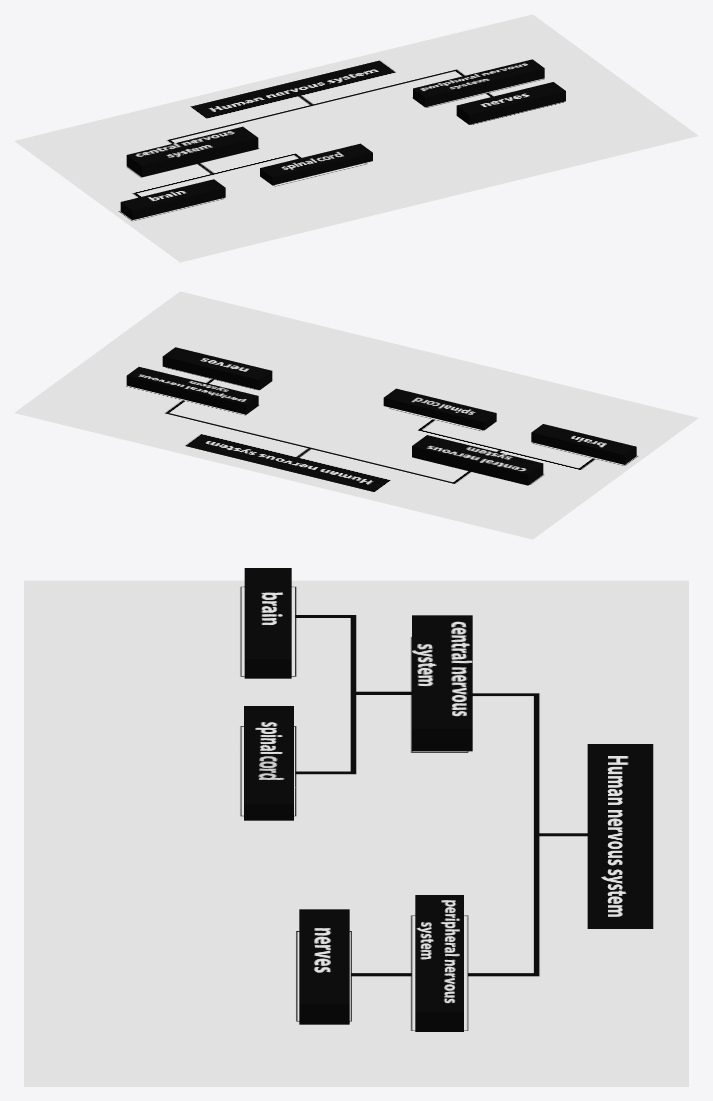
Rendered from human_nurves_system 1.fbx.
3 renders of one model, top to bottom at view 1: azimuth 30°, elevation 25°; view 2: azimuth 150°, elevation 25°; view 3: azimuth 270°, elevation 25°, orthographic. The views are drawn at different scales.
Parts seen in each view (by area): view 1: base, centeral_nurves_system1, peripheral_nervous_system, centeral_nurves_system_nurves, centeral_nurves_system, brain_spinal_cord; view 2: base, centeral_nurves_system1, peripheral_nervous_system, centeral_nurves_system_nurves, centeral_nurves_system, brain_spinal_cord; view 3: base, centeral_nurves_system1, peripheral_nervous_system, centeral_nurves_system_nurves, centeral_nurves_system, brain_spinal_cord.
Part boxes in pixels (bbox=[...]): base: bbox=[14, 14, 698, 262]; centeral_nurves_system1: bbox=[126, 126, 258, 177]; peripheral_nervous_system: bbox=[413, 59, 544, 107]; centeral_nurves_system_nurves: bbox=[456, 82, 565, 124]; centeral_nurves_system: bbox=[260, 143, 372, 185]; brain_spinal_cord: bbox=[120, 179, 225, 220]; base: bbox=[14, 291, 698, 539]; centeral_nurves_system1: bbox=[412, 435, 543, 485]; peripheral_nervous_system: bbox=[126, 367, 258, 414]; centeral_nurves_system_nurves: bbox=[162, 347, 272, 390]; centeral_nurves_system: bbox=[383, 388, 496, 430]; brain_spinal_cord: bbox=[531, 424, 636, 464]; base: bbox=[24, 580, 688, 1086]; centeral_nurves_system1: bbox=[412, 615, 472, 751]; peripheral_nervous_system: bbox=[415, 895, 463, 1031]; centeral_nurves_system_nurves: bbox=[299, 909, 349, 1024]; centeral_nurves_system: bbox=[244, 706, 293, 820]; brain_spinal_cord: bbox=[244, 568, 291, 678].
Size of the model in its own units: 1629 by 37.37 by 904.
Materials: 2 (2 with a texture image).
